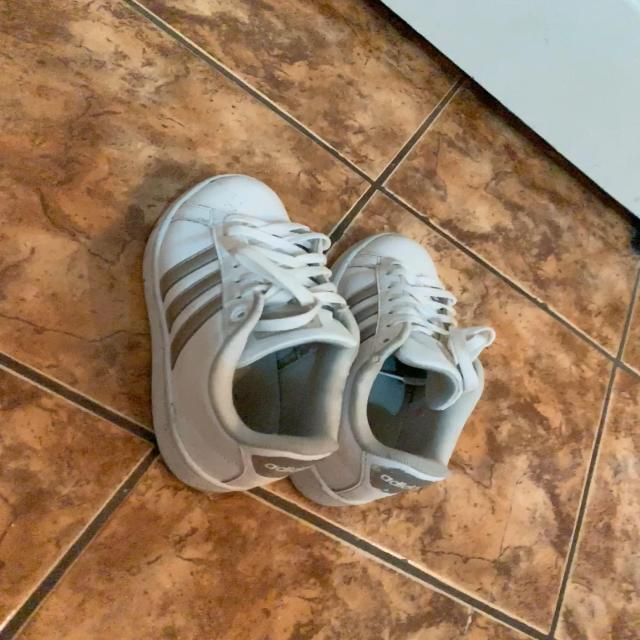shoe: (142, 174, 356, 493), (319, 229, 485, 505)
